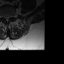CCS_normal: (5, 14, 8, 23)
LFS_severe_stenosis: (9, 14, 11, 19)
LLS_stenosis: (8, 15, 9, 20)
RFS_severe_stenosis: (2, 14, 4, 19)
RLS_stenosis: (4, 14, 5, 20)
